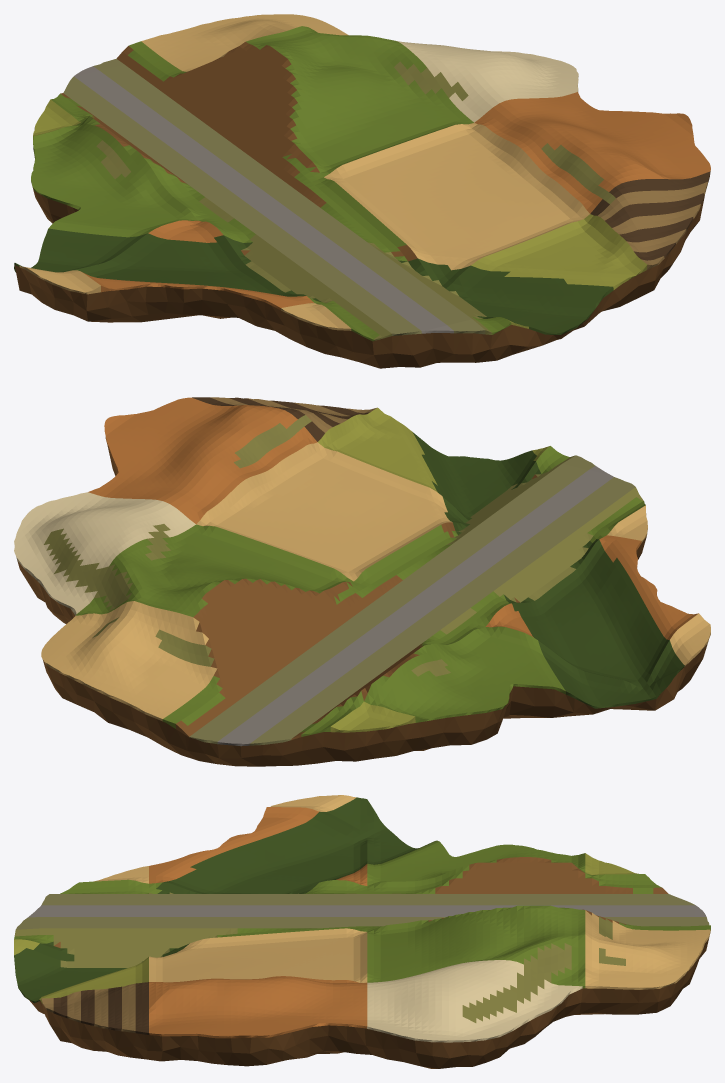
Rendered from countryside-railway-terrain-421c5b.glb.
3 renders of one model, top to bottom at view 1: azimuth 30°, elevation 25°; view 2: azimuth 150°, elevation 25°; view 3: azimuth 270°, elevation 25°, orthographic. The views are drawn at different scales.
Parts seen in each view (by area): view 1: countryside; view 2: countryside; view 3: countryside.
Boxes of the visible parts, box(x1,y1,x2,y2) form: countryside: box(14, 14, 710, 368); countryside: box(14, 397, 710, 766); countryside: box(14, 795, 710, 1068).
Bounding box in the file's own units: 97.16 × 21.57 × 102.
